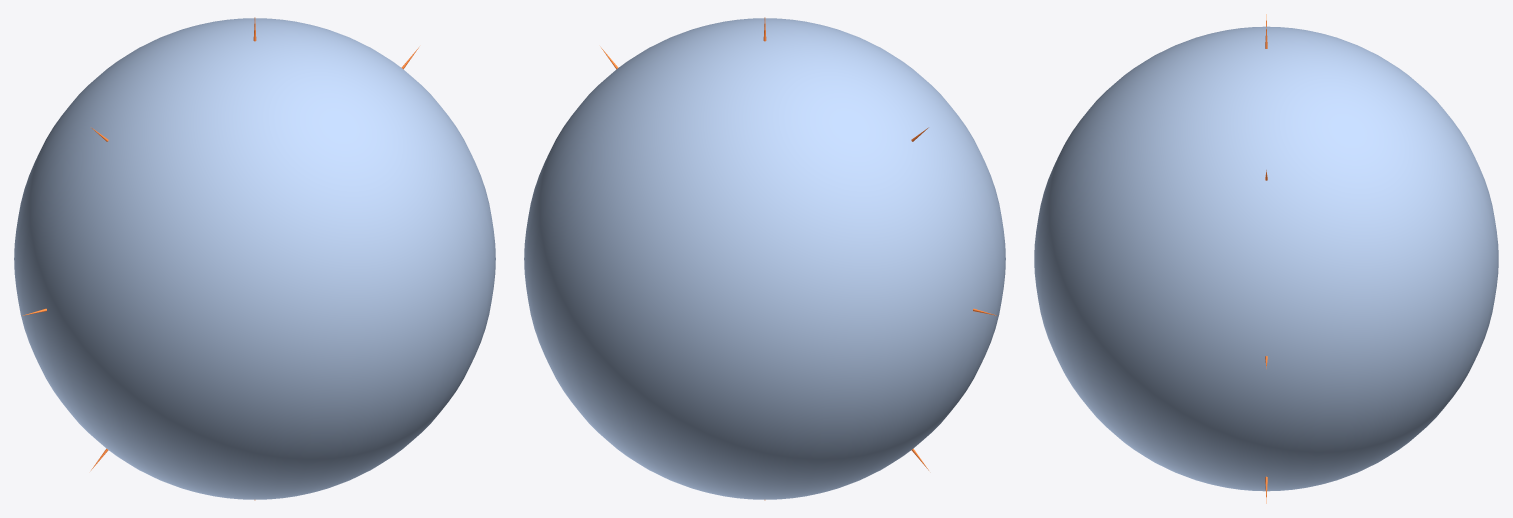
The model's file is space-p1-supernova.glb.
3 renders of one model, left to right at view 1: azimuth 30°, elevation 25°; view 2: azimuth 150°, elevation 25°; view 3: azimuth 270°, elevation 25°, orthographic. The views are drawn at different scales.
Parts seen in each view (by area): view 1: expanding-shock-front-transparent-shell; view 2: expanding-shock-front-transparent-shell; view 3: expanding-shock-front-transparent-shell.
Boxes of the visible parts, x1,y1,x2,y2 form: expanding-shock-front-transparent-shell: (14, 18, 495, 499); expanding-shock-front-transparent-shell: (524, 18, 1005, 499); expanding-shock-front-transparent-shell: (1034, 26, 1498, 491).
Size of what is drawn, in the model's own units: 2.02 by 2.02 by 1.8.
